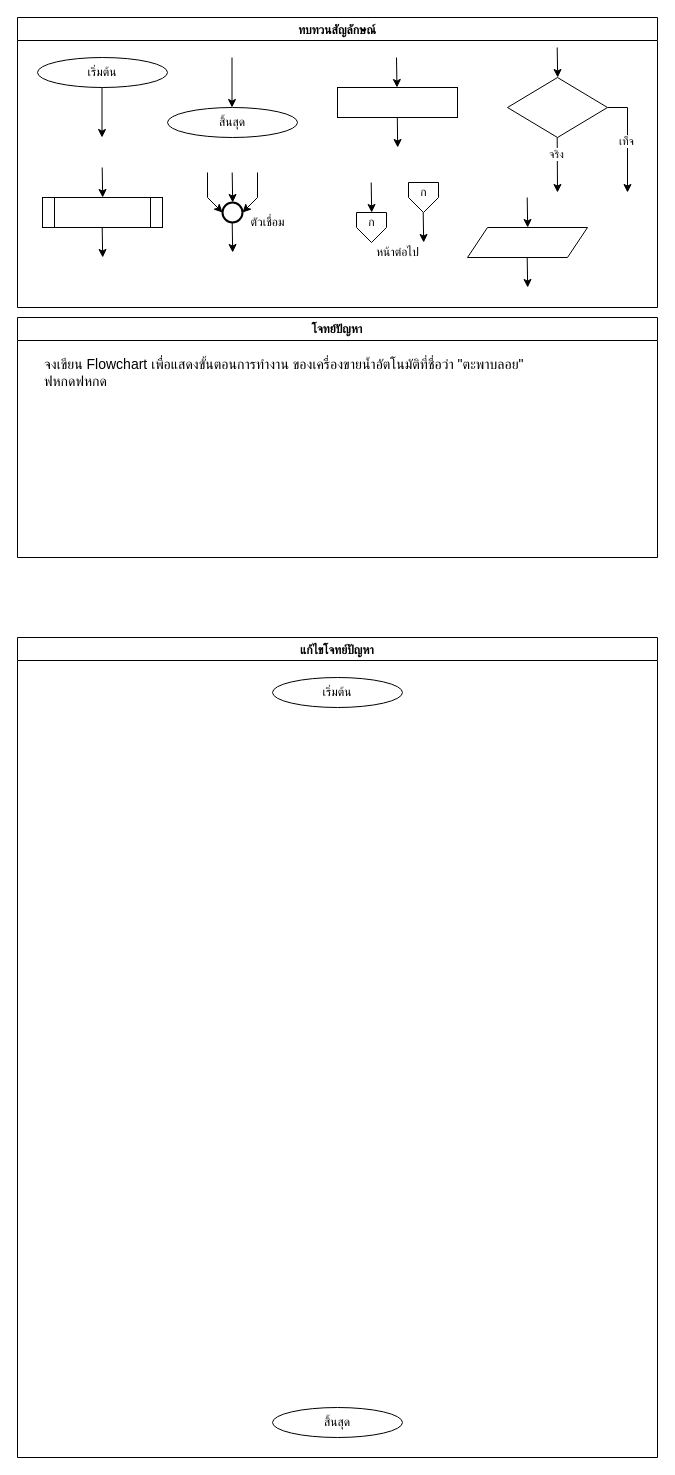
The diagram is 675 pixels wide and 1475 high, and some of its shapes have lost their labels. Here are the shapes that lost their labels. From the top down, the centre of each, then its label:
point 397,102: กระบวนการ
point 557,107: ประโยคเงื่อนไข
point 102,212: ฟังก์ชัน/โมดูล
point 527,242: แสดงผล/รับค่า
